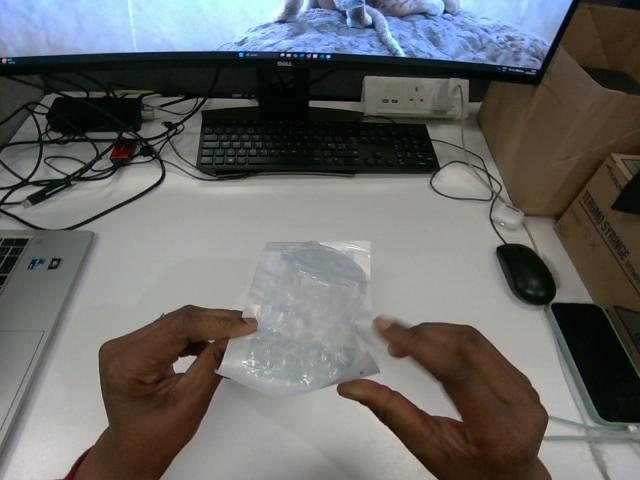gallipot: (218, 242, 377, 397)
